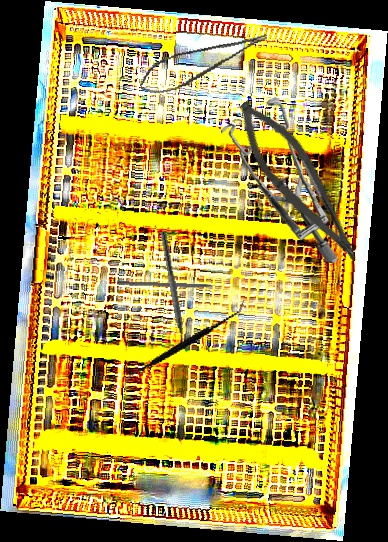Chopper: (152, 231, 189, 353)
Hook Surgical: (116, 281, 228, 290)
Micro Scissor: (220, 90, 380, 272), (134, 29, 275, 100)
Spatula Surgical: (122, 268, 246, 418)
Speculum: (212, 93, 349, 264)
